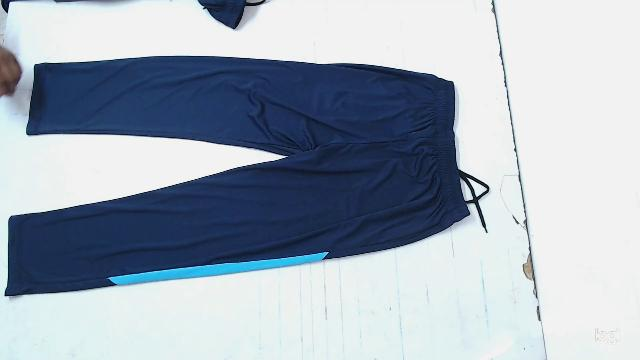new-garment: (5, 56, 482, 295)
